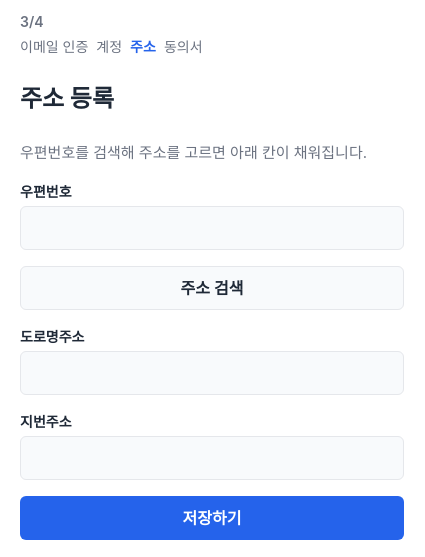
Scenario: SignupAddressPage › should fill the road address, jibun address and postal code when the popup returns a selection
Click the button "주소 검색". click: (212, 288)
box: [20,266,404,310]
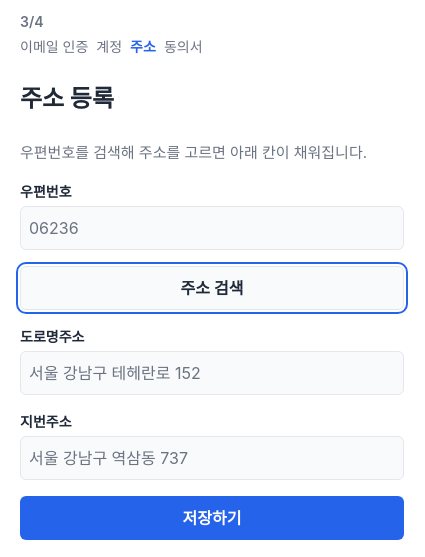
Now the field labelled "우편번호" holds "06236", box [20,206,404,250]
Now the field labelled "도로명주소" holds "서울 강남구 테헤란로 152", box [20,351,404,395]
Now the field labelled "지번주소" holds "서울 강남구 역삼동 737", box [20,436,404,480]
